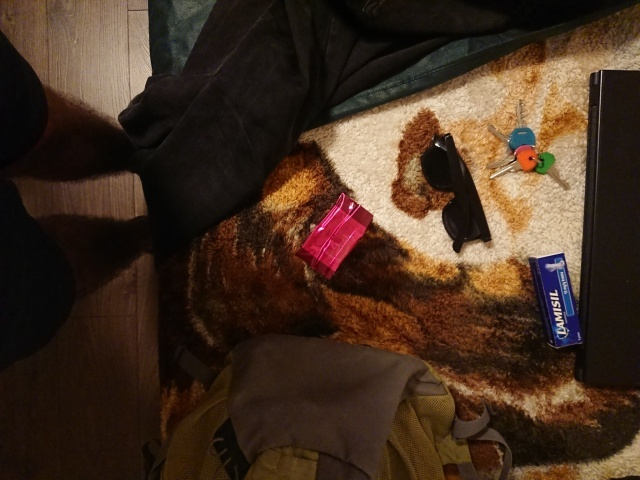Barcaffe Classic Original 225g: (293, 190, 376, 282)
